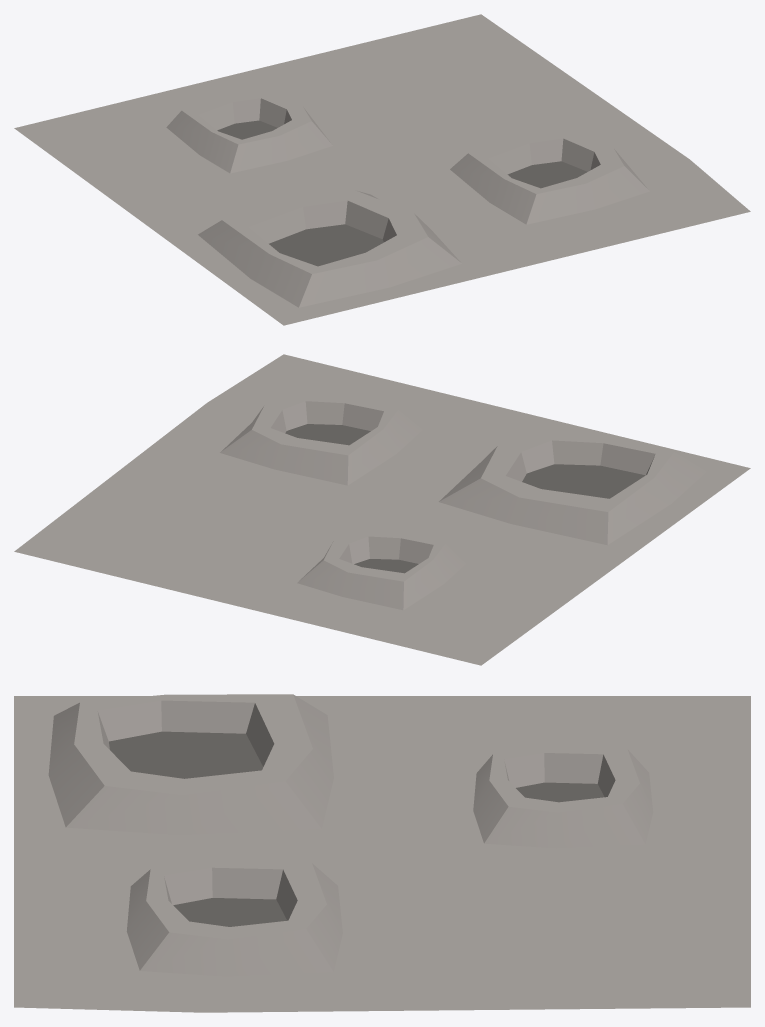
Rendered from SM_Env_Crater_02.fbx.
3 renders of one model, top to bottom at view 1: azimuth 30°, elevation 25°; view 2: azimuth 150°, elevation 25°; view 3: azimuth 270°, elevation 25°, orthographic. The views are drawn at different scales.
Visible parts, largest first — view 1: SM_Env_Crater_02; view 2: SM_Env_Crater_02; view 3: SM_Env_Crater_02.
Boxes of the visible parts, bbox=[...] form: SM_Env_Crater_02: bbox=[14, 14, 750, 325]; SM_Env_Crater_02: bbox=[14, 354, 750, 665]; SM_Env_Crater_02: bbox=[14, 694, 750, 1012].
Bounding box in the file's own units: 20.33 × 0.8606 × 20.
